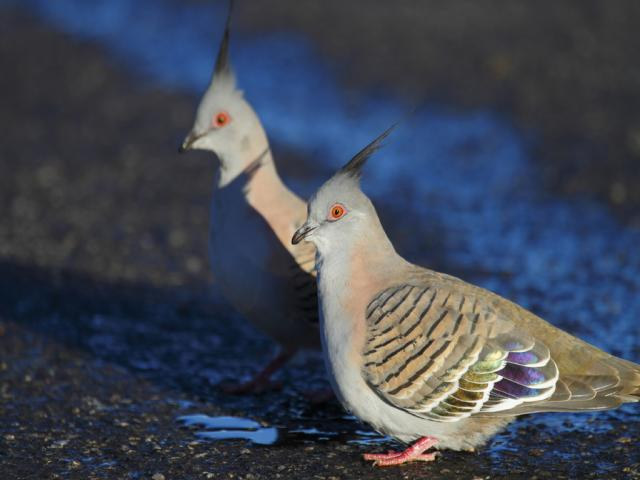Bird: (299, 110, 636, 471), (176, 0, 323, 408)
